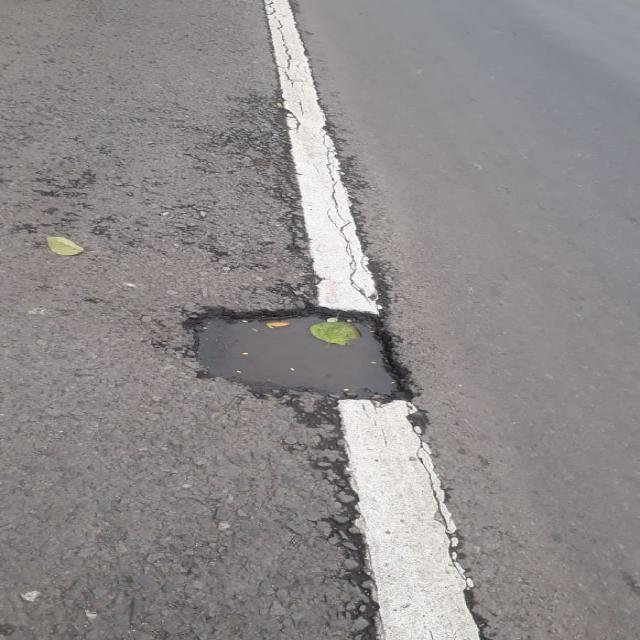Buraco: (178, 297, 424, 406)
